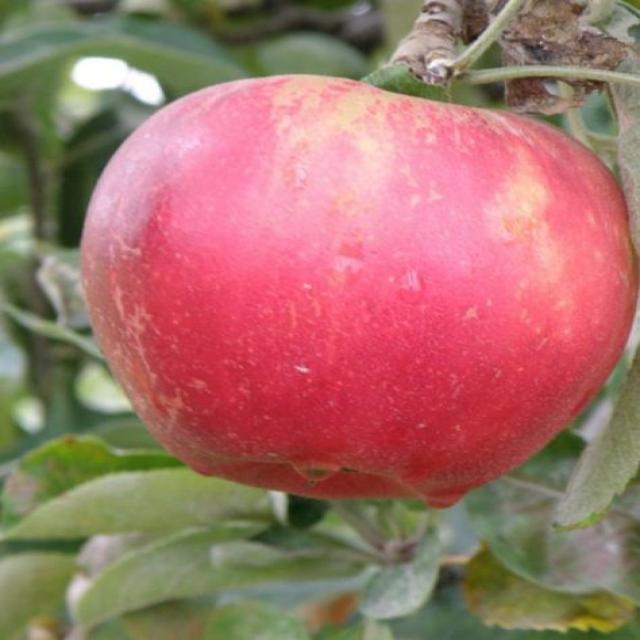Apple: (83, 71, 640, 498)
